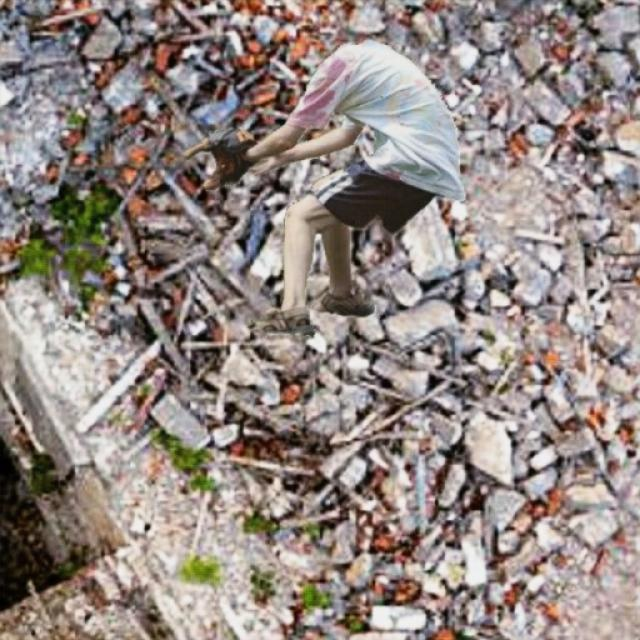Person in Rubble: (184, 38, 465, 336)
